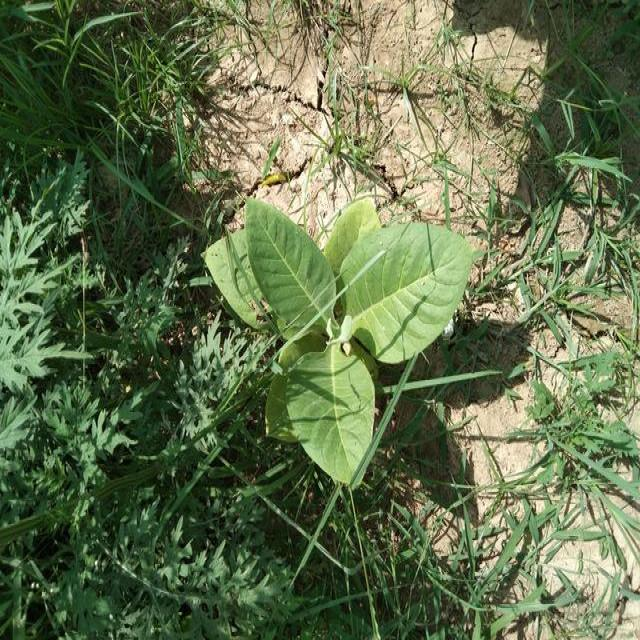crop: (218, 207, 467, 472)
